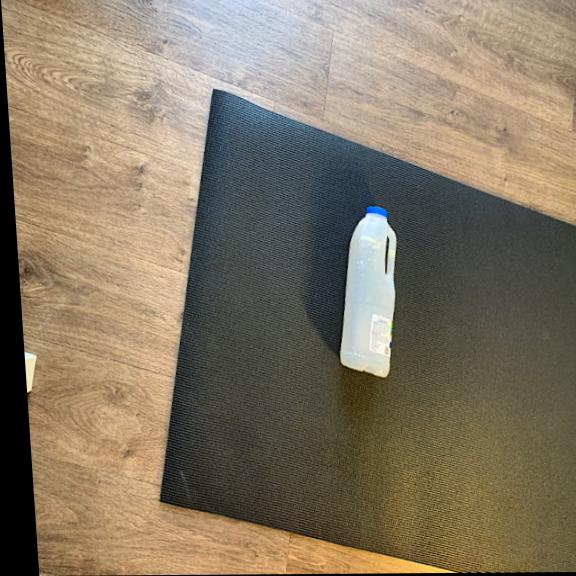Plastik: (326, 202, 408, 385)
